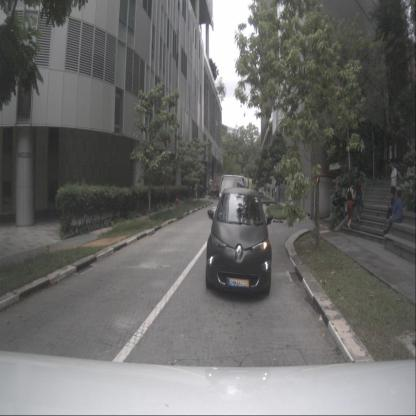human-pedestrian-adult: (383, 190, 403, 235), (345, 180, 356, 230), (384, 191, 398, 225), (355, 173, 364, 225), (390, 163, 397, 210), (268, 186, 270, 196)
vehicle-car: (205, 186, 272, 296)
vehicle-truck: (219, 174, 249, 221), (209, 173, 228, 196)
